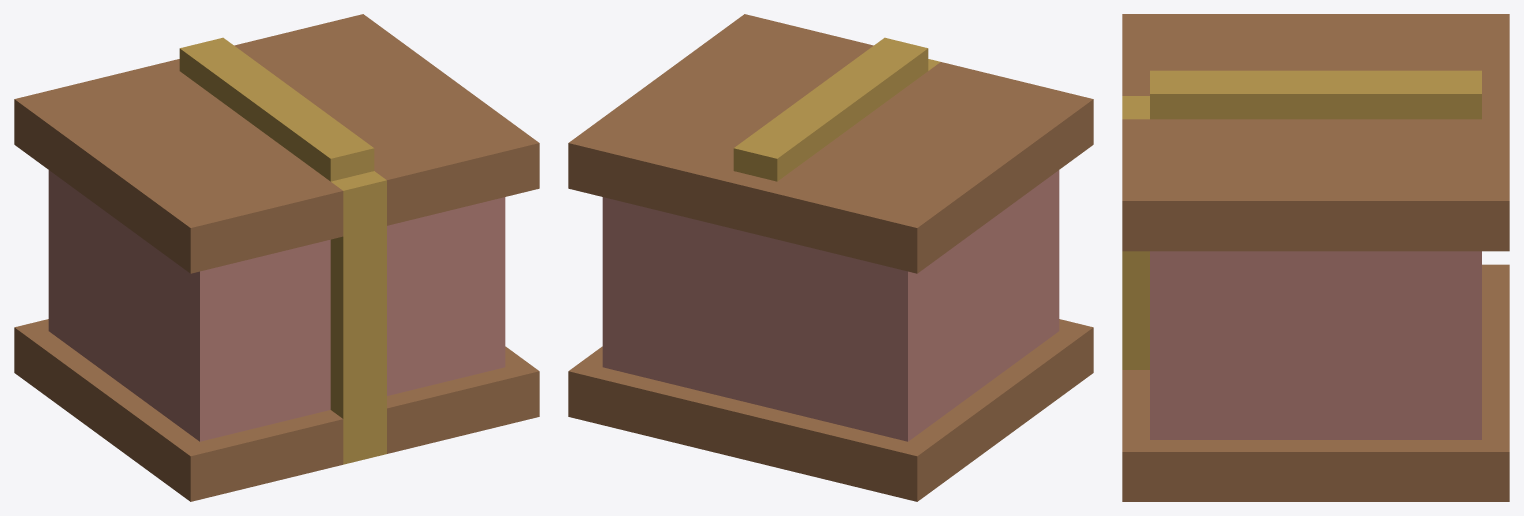
The model's file is commerce-04.glb.
3 renders of one model, left to right at view 1: azimuth 30°, elevation 25°; view 2: azimuth 150°, elevation 25°; view 3: azimuth 270°, elevation 25°, orthographic. The views are drawn at different scales.
Visible parts, largest first — view 1: Parcel stack; view 2: Parcel stack; view 3: Parcel stack.
Part boxes in pixels (box(x1,y1,x2,y2)): Parcel stack: box(14, 14, 539, 501); Parcel stack: box(568, 14, 1093, 501); Parcel stack: box(1122, 14, 1509, 501).
Bounding box in the file's own units: 1.28 × 1.04 × 1.12.
